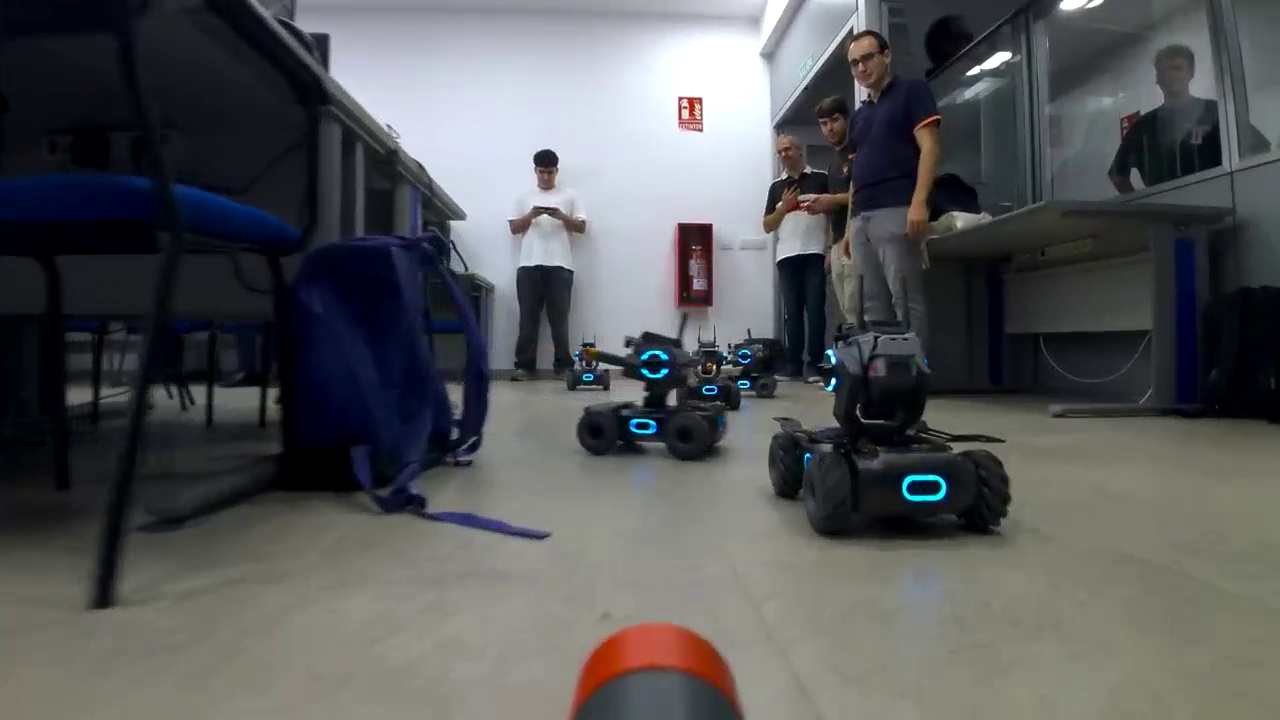robot: (765, 316, 1017, 548), (570, 328, 729, 466), (671, 335, 742, 413), (718, 338, 778, 400), (561, 335, 615, 393)
